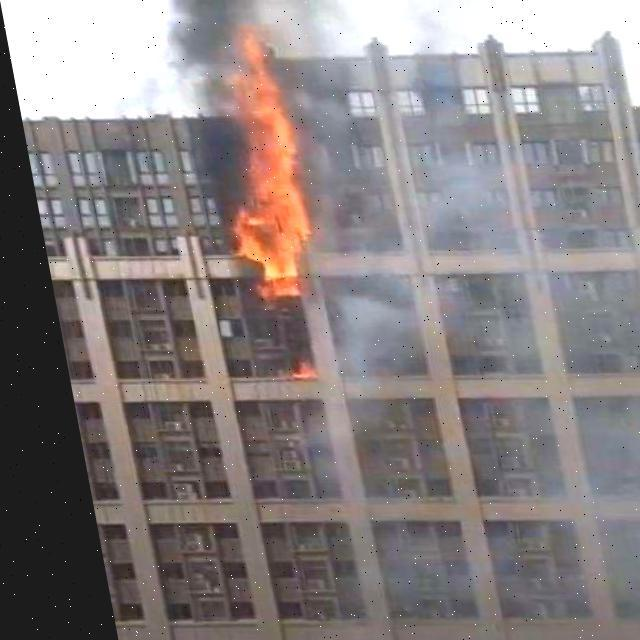Fire: (187, 29, 323, 305), (272, 350, 312, 381)
